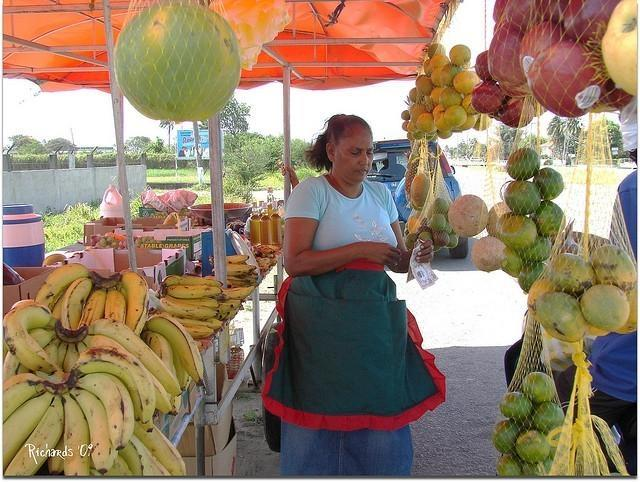truck: (366, 141, 469, 258)
